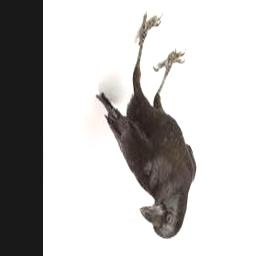Crow: (96, 9, 197, 241)
